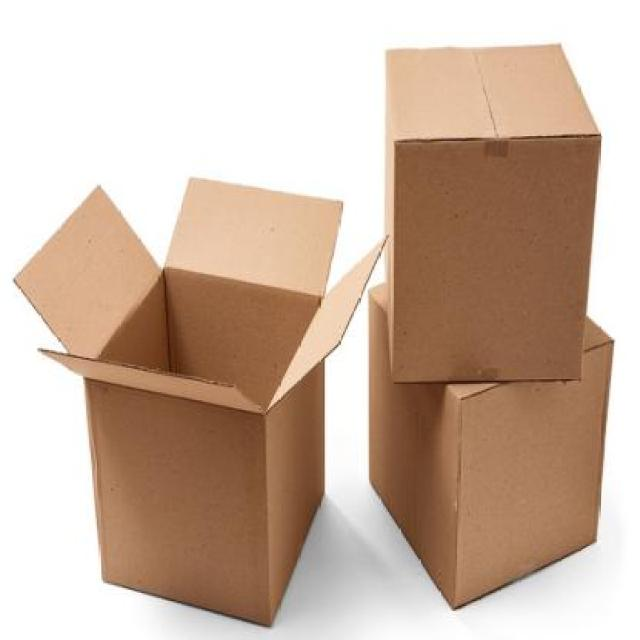box: (8, 84, 386, 640), (354, 284, 618, 634), (366, 30, 605, 401)
